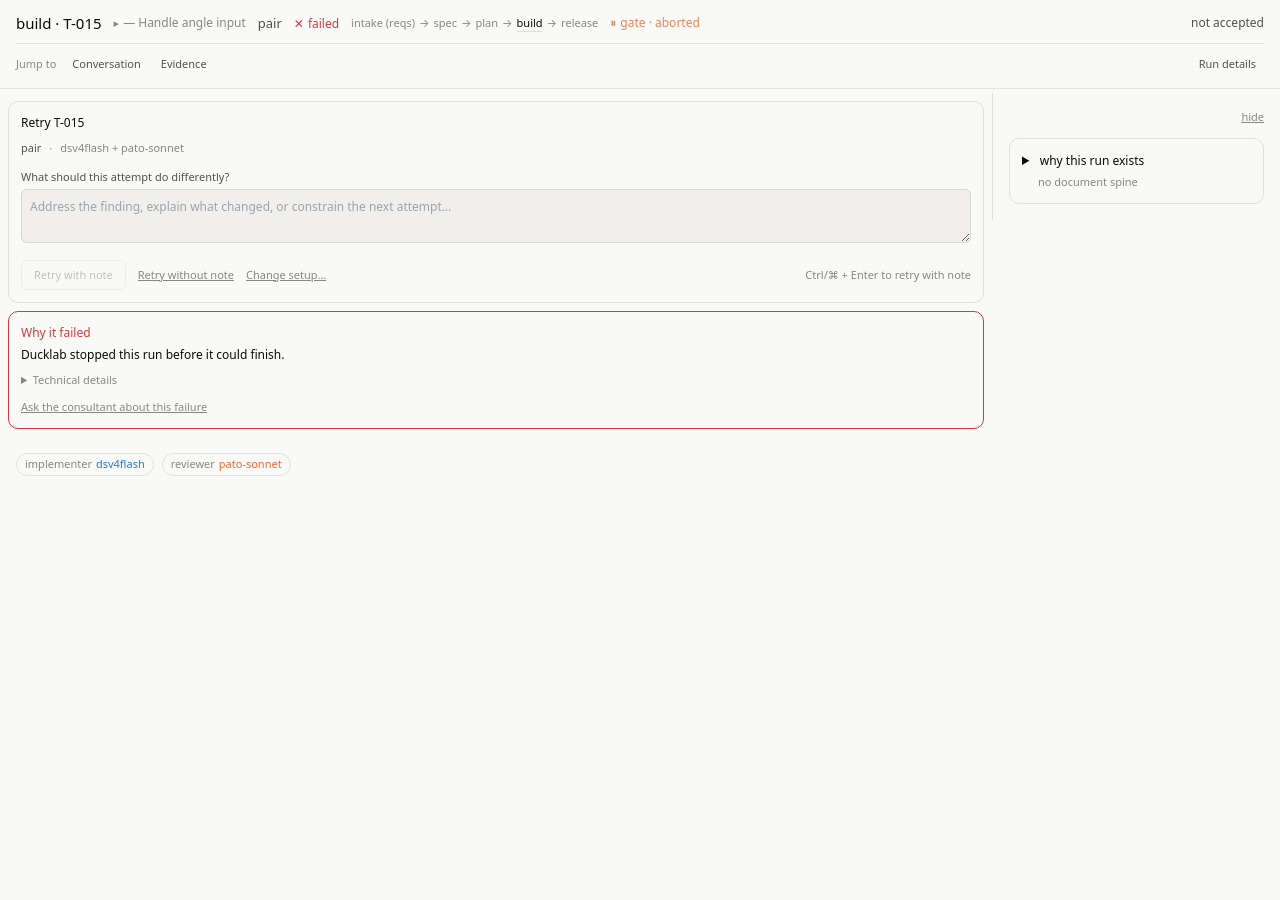
Test: the task's description in the run view › says so when the task has no body, instead of hiding the card
This screenshot has width=1280, height=900.
Click the button with test id "run-task-toggle" at (180, 23), box top-left (114, 14), bottom-right (246, 32)
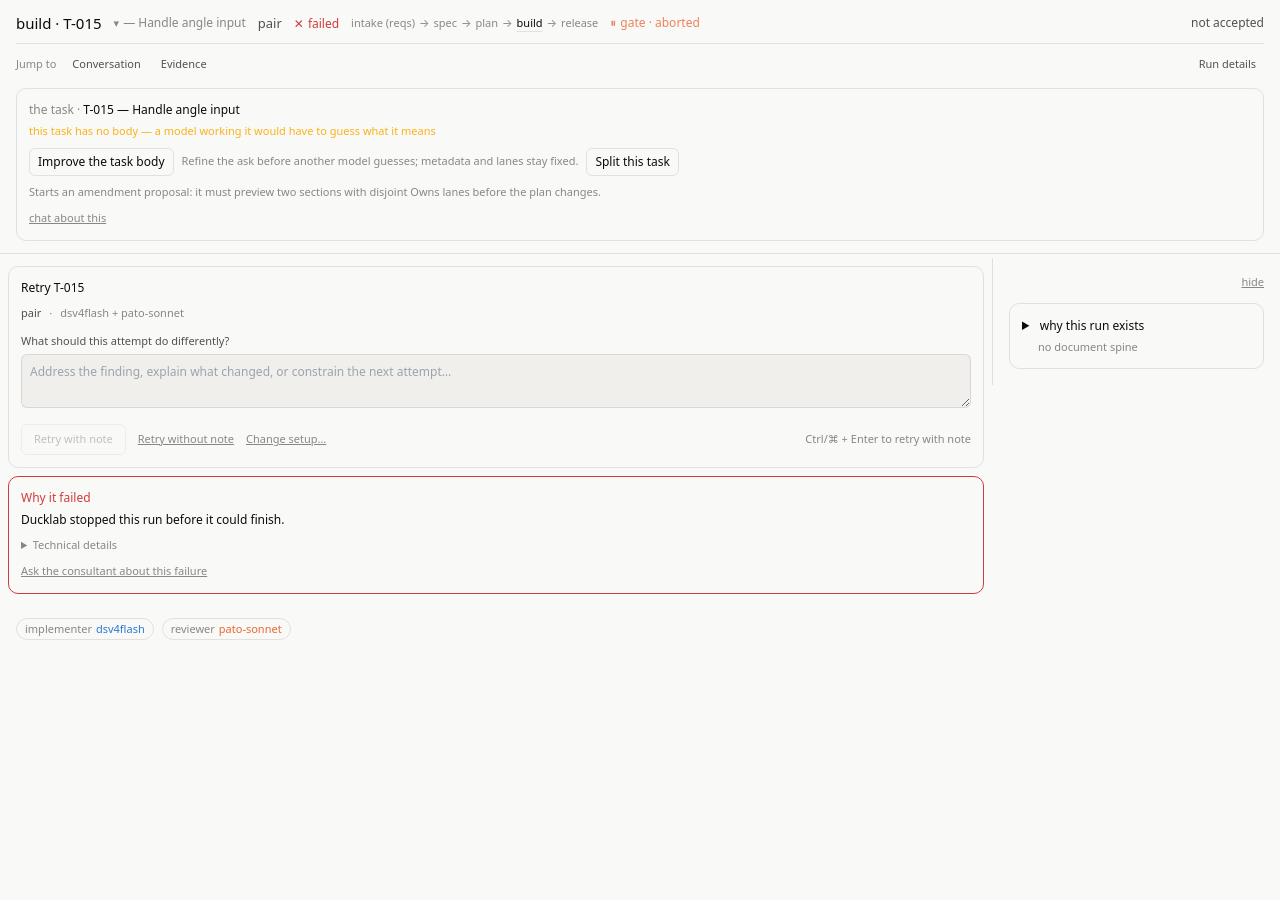
Result: the text with test id "task-empty-body" shows "no body" at top-left (29, 123), bottom-right (436, 138)
